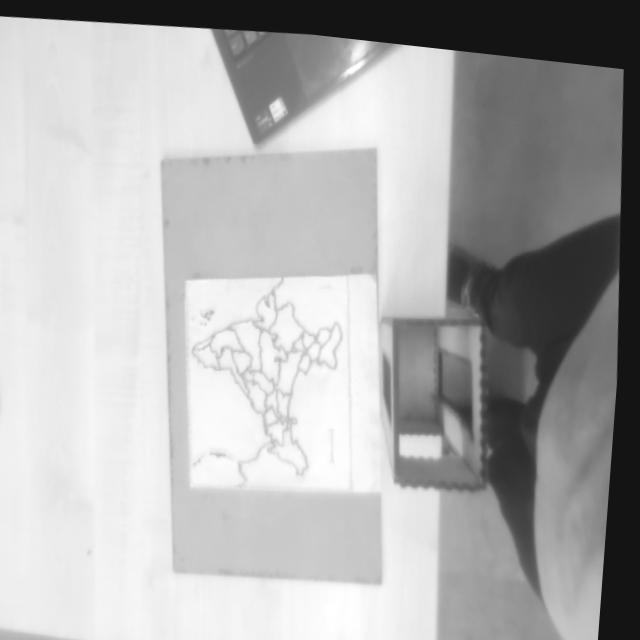map: (186, 276, 352, 492)
